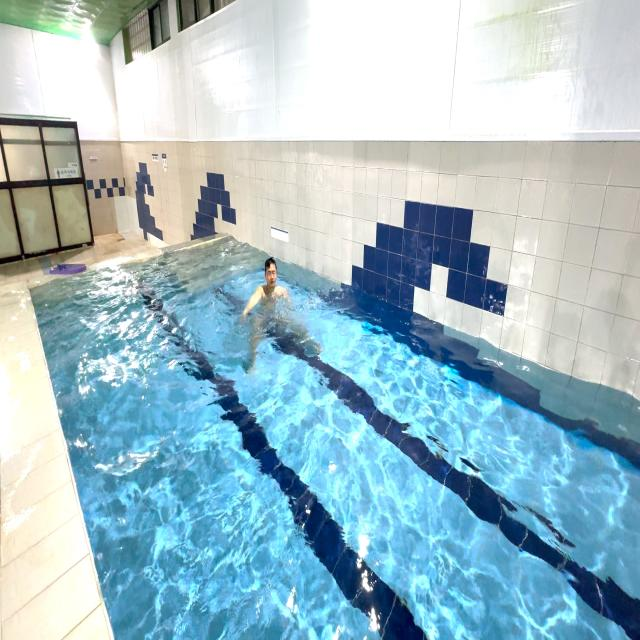Swimming: (237, 254, 312, 366)
